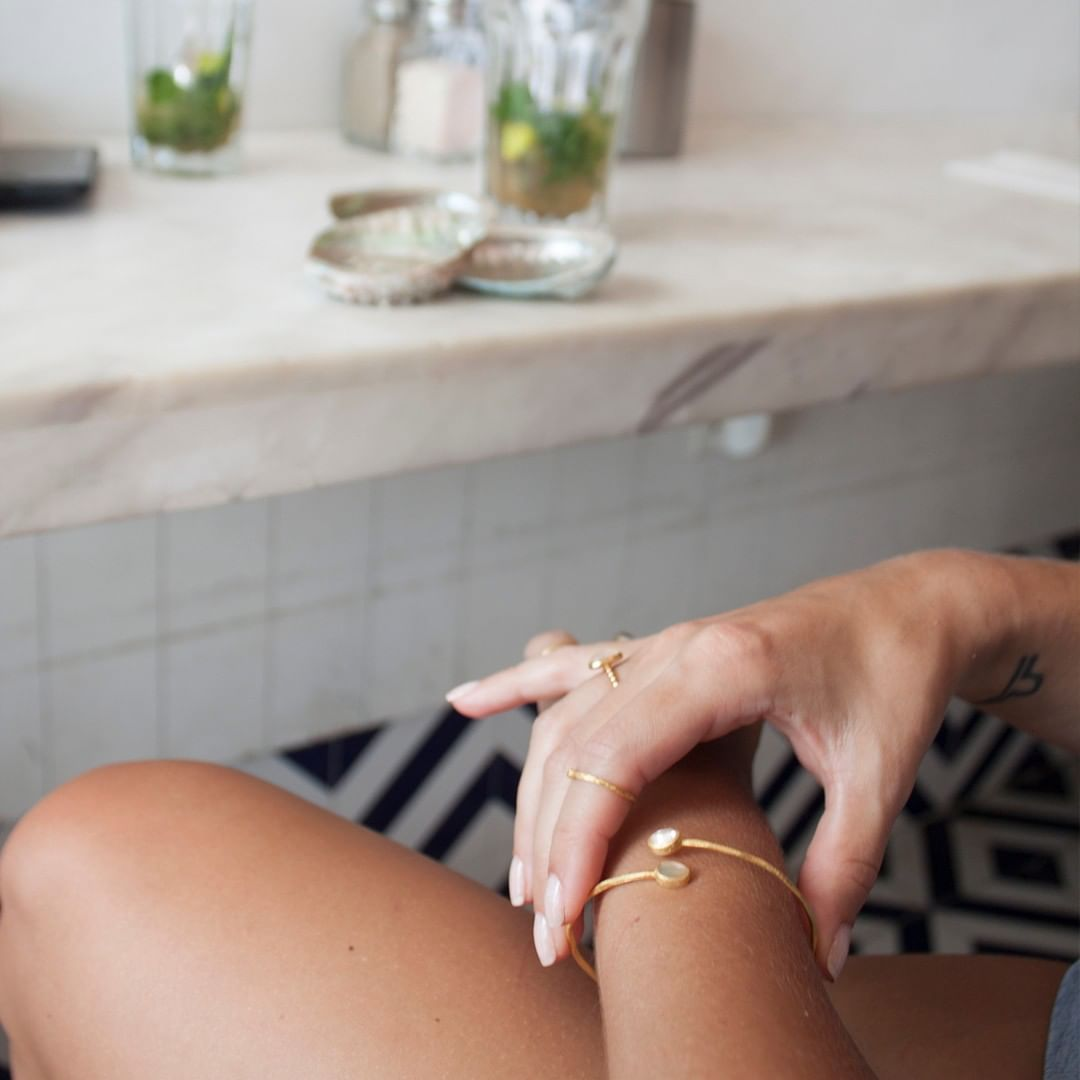hand: (481, 568, 949, 931)
